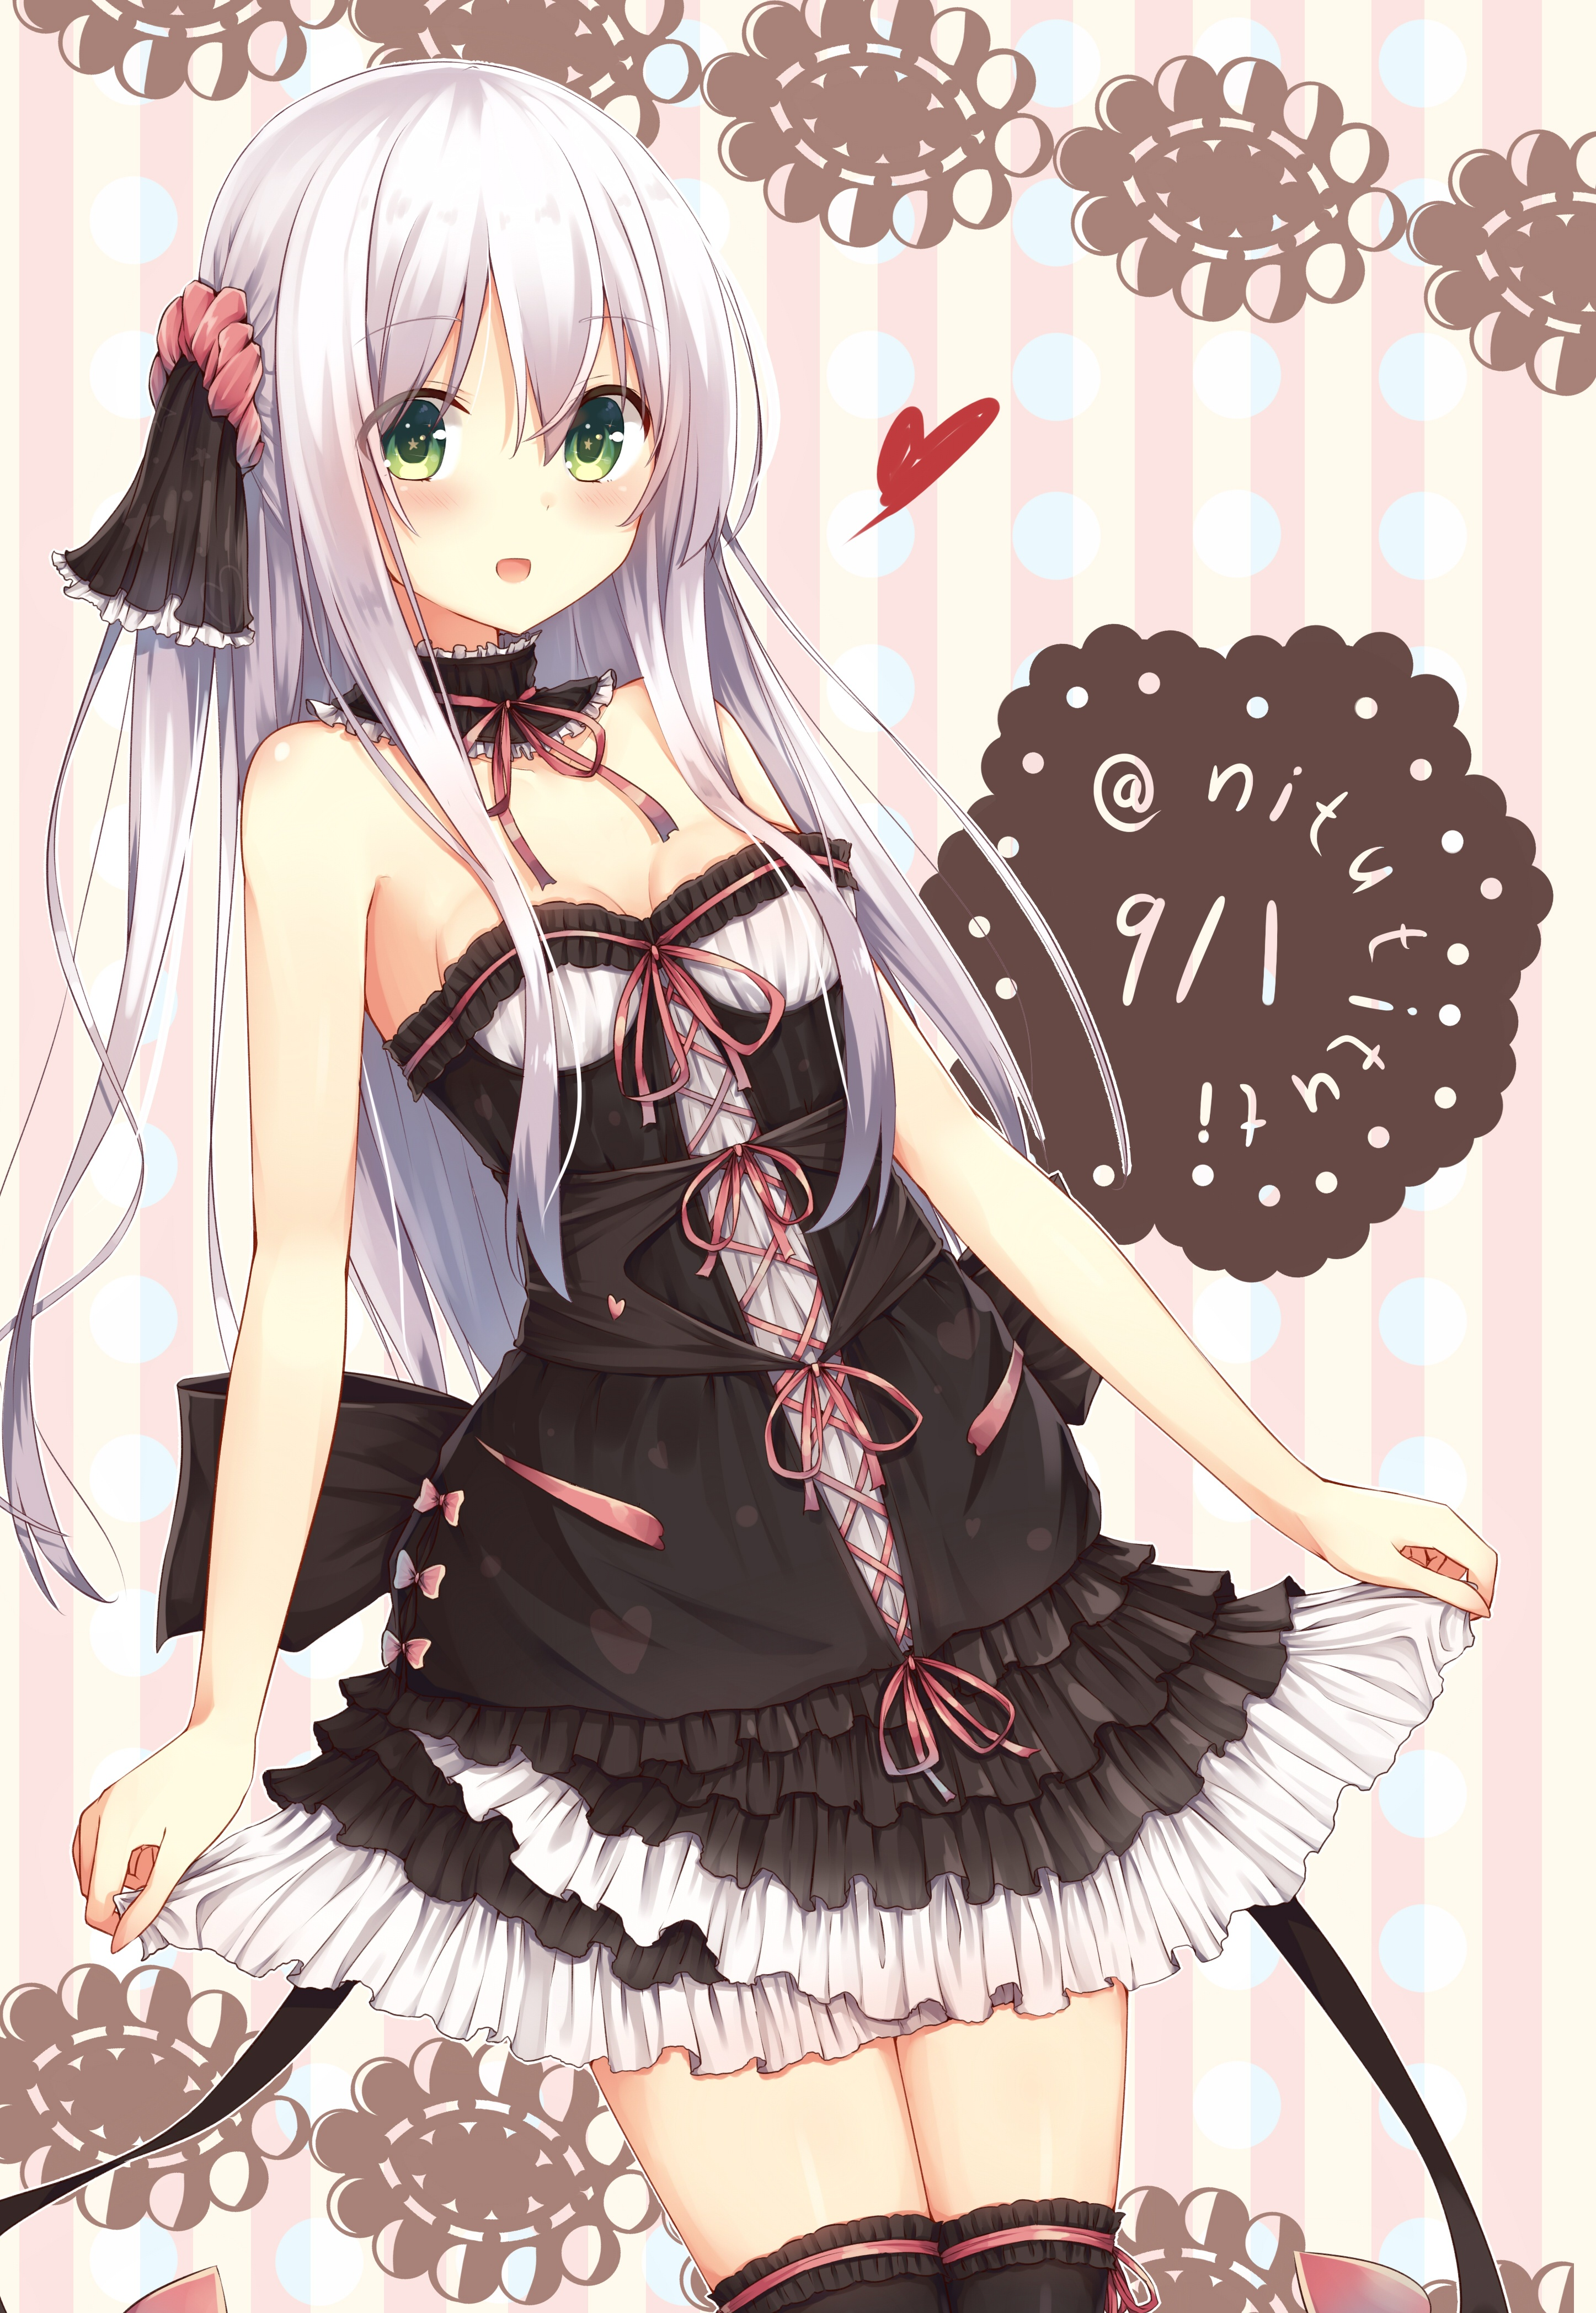纸片人正脸: (159, 38, 755, 667)
